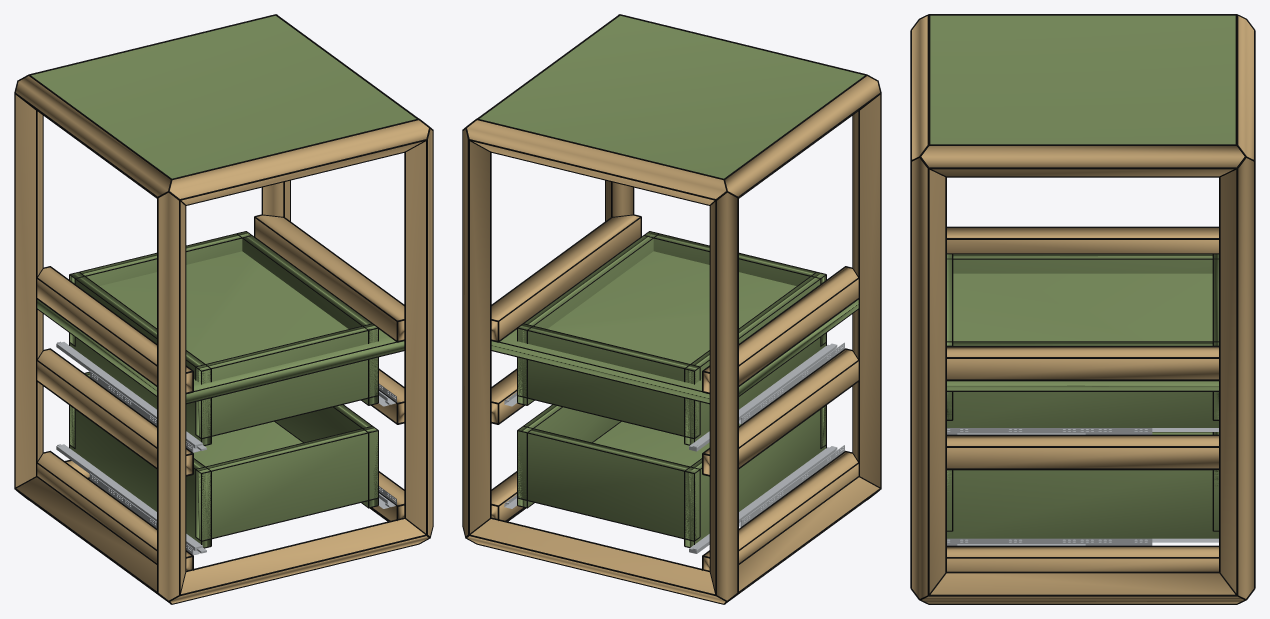
File: 003-table-chevet.glb
3 renders of one model, left to right at view 1: azimuth 30°, elevation 25°; view 2: azimuth 150°, elevation 25°; view 3: azimuth 270°, elevation 25°, orthographic. The views are drawn at different scales.
Visible parts, largest first — view 1: panneau-dessus_exterieur, tablette-plate-mod-0, drawer-box-fond-mod-1, arete-Z0, drawer-box-fond-mod-2, arete-Z2, arete-Z1, arete-X2, arete-X0, tablette-traverse-right-mod-0, drawer-box-joue_g-mod-1, tablette-traverse-left-mod-0 (+31 smaller); view 2: panneau-dessus_exterieur, tablette-plate-mod-0, drawer-box-arriere-mod-1, arete-Z2, drawer-box-arriere-mod-2, arete-Z0, arete-Z3, arete-X3, arete-X1, tablette-traverse-right-mod-0, drawer-box-joue_g-mod-1, tablette-traverse-left-mod-0 (+30 smaller); view 3: panneau-dessus_exterieur, tablette-plate-mod-0, drawer-box-joue_d-mod-1, arete-Z1, arete-Z3, drawer-box-joue_d-mod-2, arete-Y3, arete-Y1, tablette-traverse-right-mod-0, drawer-tr-drawer-traverse-right-mod-2, tablette-traverse-left-mod-0, drawer-tr-drawer-traverse-right-mod-1 (+21 smaller).
Boxes of the visible parts, x1,y1,x2,y2 form: panneau-dessus_exterieur: [31, 15, 416, 178]; tablette-plate-mod-0: [37, 251, 404, 402]; drawer-box-fond-mod-1: [196, 426, 377, 540]; arete-Z0: [158, 192, 185, 600]; drawer-box-fond-mod-2: [196, 324, 377, 437]; arete-Z2: [15, 95, 42, 486]; arete-Z1: [406, 129, 432, 535]; arete-X2: [170, 120, 428, 204]; arete-X0: [170, 519, 428, 603]; tablette-traverse-right-mod-0: [255, 215, 404, 340]; drawer-box-joue_g-mod-1: [70, 406, 210, 547]; tablette-traverse-left-mod-0: [37, 267, 192, 392]; panneau-dessus_exterieur: [479, 15, 864, 178]; tablette-plate-mod-0: [491, 251, 858, 402]; drawer-box-arriere-mod-1: [518, 429, 696, 540]; arete-Z2: [710, 192, 737, 600]; drawer-box-arriere-mod-2: [518, 324, 698, 437]; arete-Z0: [853, 95, 880, 486]; arete-Z3: [463, 129, 489, 535]; arete-X3: [467, 120, 725, 204]; arete-X1: [467, 519, 725, 603]; tablette-traverse-right-mod-0: [491, 215, 640, 340]; drawer-box-joue_g-mod-1: [685, 406, 825, 547]; tablette-traverse-left-mod-0: [703, 267, 858, 392]; panneau-dessus_exterieur: [930, 15, 1235, 144]; tablette-plate-mod-0: [947, 273, 1218, 390]; drawer-box-joue_d-mod-1: [947, 470, 1218, 538]; arete-Z1: [912, 158, 945, 598]; arete-Z3: [1220, 158, 1253, 598]; drawer-box-joue_d-mod-2: [947, 342, 1218, 427]; arete-Y3: [921, 146, 1244, 176]; arete-Y1: [922, 573, 1243, 603]; tablette-traverse-right-mod-0: [947, 347, 1218, 379]; drawer-tr-drawer-traverse-right-mod-2: [947, 436, 1218, 468]; tablette-traverse-left-mod-0: [947, 228, 1218, 253]; drawer-tr-drawer-traverse-right-mod-1: [947, 547, 1218, 571].
Bounding box in the file's own units: 0.4238 × 0.6238 × 0.4238.
